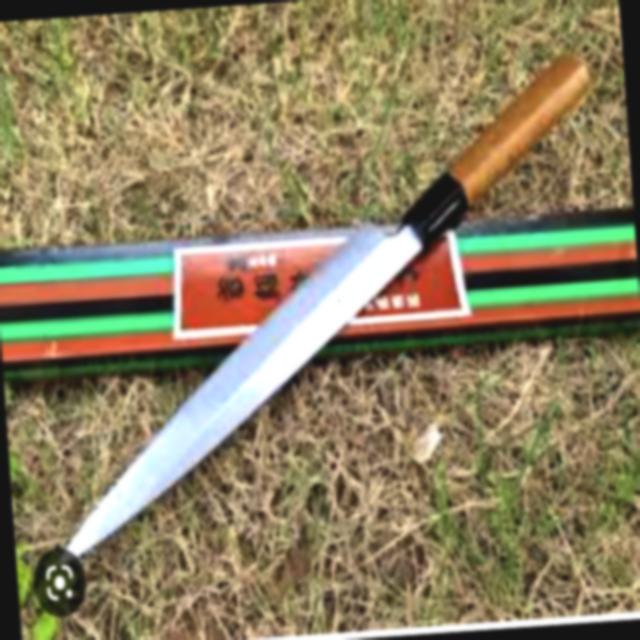knife: (18, 45, 623, 556)
